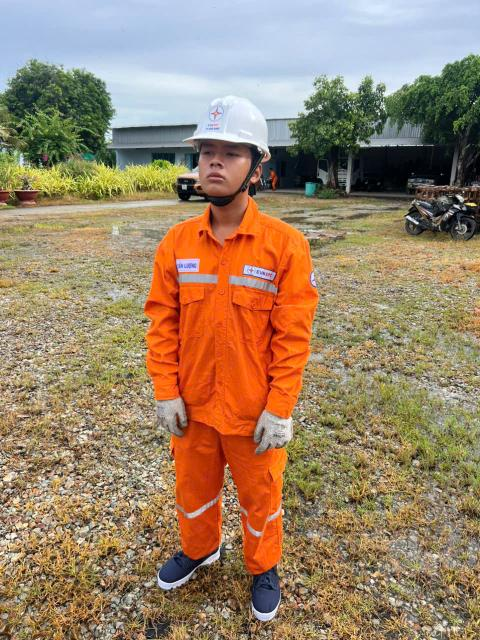gloves: (128, 378, 192, 430), (247, 408, 298, 459)
helmet: (181, 86, 281, 159)
shoes: (136, 517, 229, 596), (237, 552, 292, 622)
